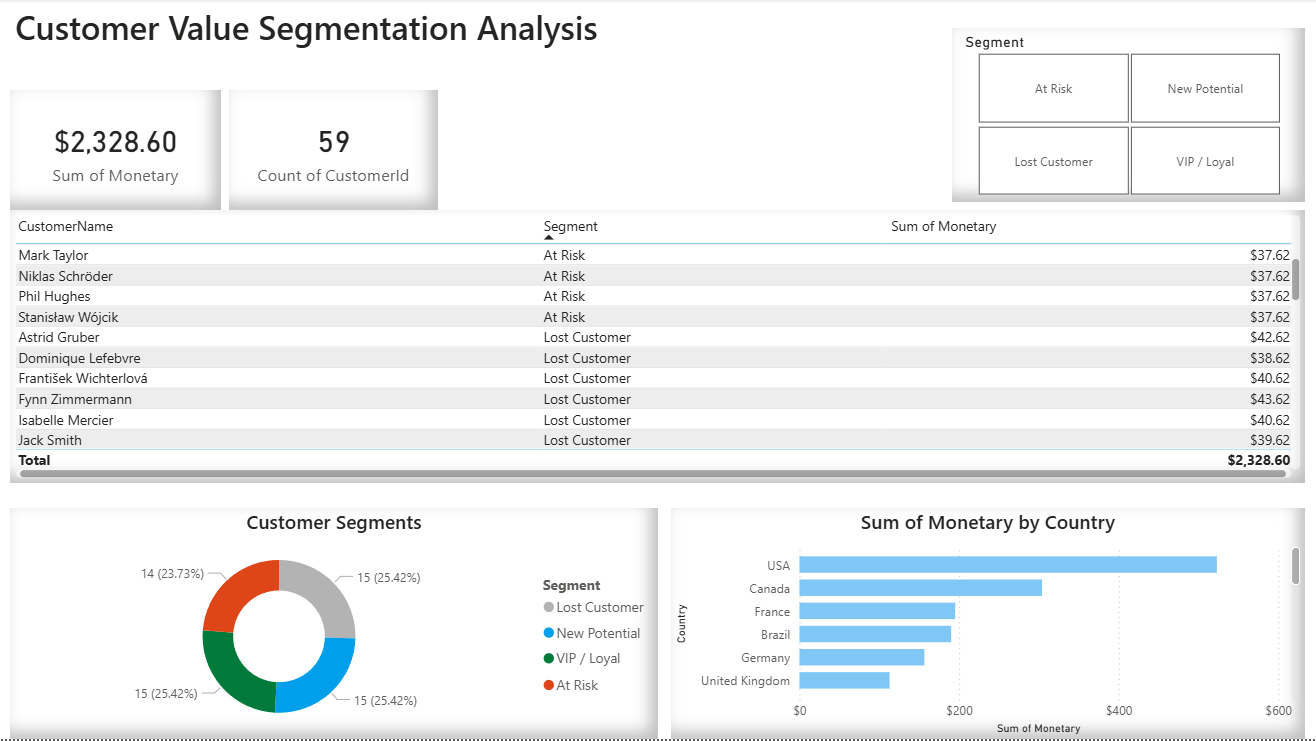

Layout of this report page (visuals, bound fields, positions):
{"tool":"powerbi","page":{"name":"Page 1","canvas":[1280,720],"ordinal":0},"visuals":[{"type":"textbox","box":[9.7,0,1164.3,55.4],"z":0},{"type":"card","fields":{"Values":["Sum(Customer_RFM_Segments.Monetary)"]},"box":[9.7,88.5,205.2,116.7],"z":1},{"type":"card","fields":{"Values":["Count(Customer_RFM_Segments.CustomerId)"]},"box":[222.7,88.5,203.3,116.7],"z":2},{"type":"donutChart","title":"Customer Segments","fields":{"Category":["Customer_RFM_Segments.Segment"],"Y":["CountNonNull(Customer_RFM_Segments.CustomerId)"]},"box":[9.7,495.1,630.3,224.7],"z":3},{"type":"clusteredBarChart","fields":{"Category":["Customer_RFM_Segments.Country"],"Y":["Sum(Customer_RFM_Segments.Monetary)"]},"box":[652.6,495.1,616.7,224.7],"z":4},{"type":"tableEx","fields":{"Values":["Customer_RFM_Segments.CustomerName","Customer_RFM_Segments.Segment","Sum(Customer_RFM_Segments.Monetary)"]},"box":[9.7,205.2,1259.6,265.5],"z":5},{"type":"slicer","fields":{"Values":["Customer_RFM_Segments.Segment"]},"box":[926,28.2,343.3,169.2],"z":6}]}

Visuals, with their boxes in screenshot pixels (x1, y1, x2, y2), scaled from the page's 1280x720 canvas onto the 1316x741 screenshot:
textbox: select_region(10, 0, 1207, 57)
card - Sum(Customer_RFM_Segments.Monetary): select_region(10, 91, 221, 211)
card - Count(Customer_RFM_Segments.CustomerId): select_region(229, 91, 438, 211)
"Customer Segments" donutChart: select_region(10, 510, 658, 740)
clusteredBarChart - Customer_RFM_Segments.Country x Sum(Customer_RFM_Segments.Monetary): select_region(671, 510, 1305, 740)
tableEx - Customer_RFM_Segments.CustomerName x Customer_RFM_Segments.Segment: select_region(10, 211, 1305, 484)
slicer - Customer_RFM_Segments.Segment: select_region(952, 29, 1305, 203)
